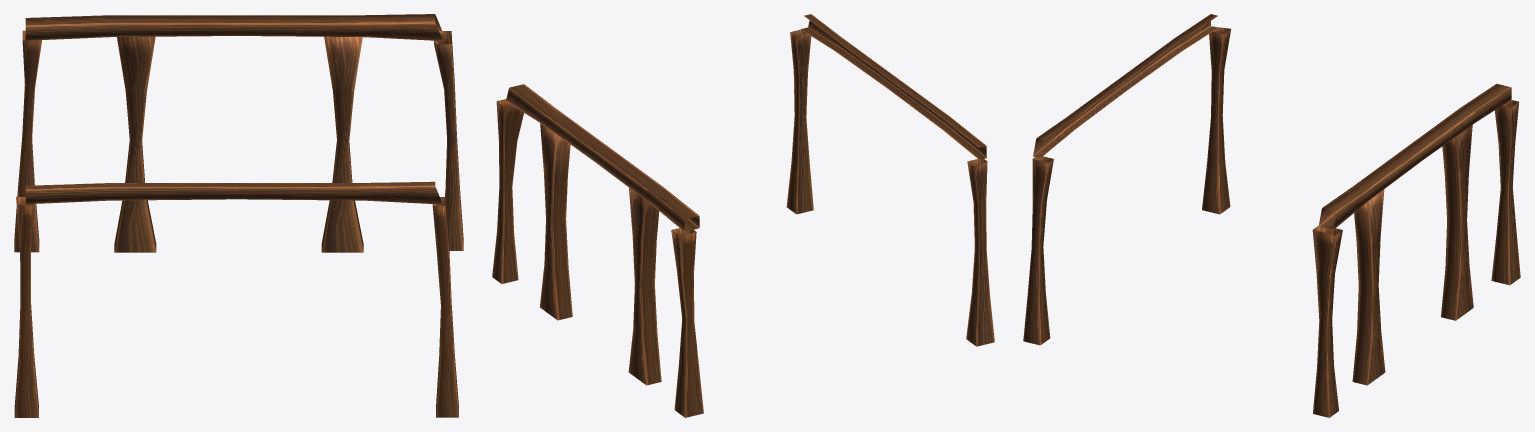
The model's file is HTOWN01_HANNASHEDEXTCOLUMS.fbx.
3 renders of one model, left to right at view 1: azimuth 30°, elevation 25°; view 2: azimuth 150°, elevation 25°; view 3: azimuth 270°, elevation 25°, orthographic. The views are drawn at different scales.
Parts seen in each view (by area): view 1: HTOWN01_HANNASHEDEXTCOLUMS; view 2: HTOWN01_HANNASHEDEXTCOLUMS; view 3: HTOWN01_HANNASHEDEXTCOLUMS.
Boxes of the visible parts, x1=… form: HTOWN01_HANNASHEDEXTCOLUMS: x1=14, y1=14, x2=463, y2=417; HTOWN01_HANNASHEDEXTCOLUMS: x1=492, y1=14, x2=994, y2=417; HTOWN01_HANNASHEDEXTCOLUMS: x1=1023, y1=14, x2=1520, y2=417.
Size of the model in its own units: 48110 by 20421 by 46930.
1 material, 1 textured.
